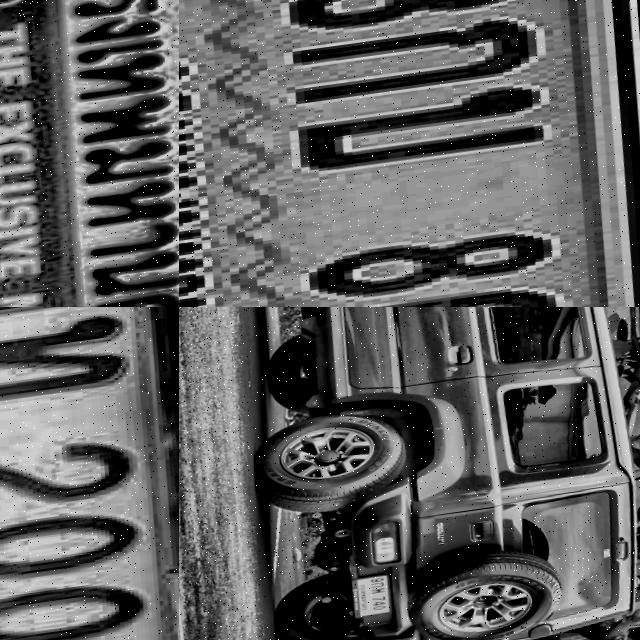license-plate: (179, 0, 640, 307), (0, 307, 179, 640), (0, 0, 179, 307), (352, 573, 401, 620)
